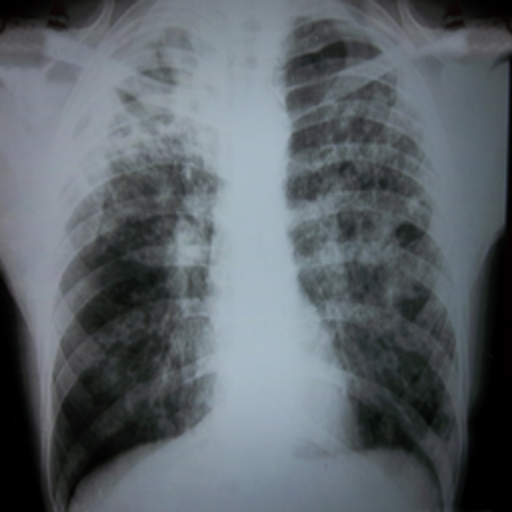TB: (303, 53, 444, 330), (72, 39, 214, 279)
